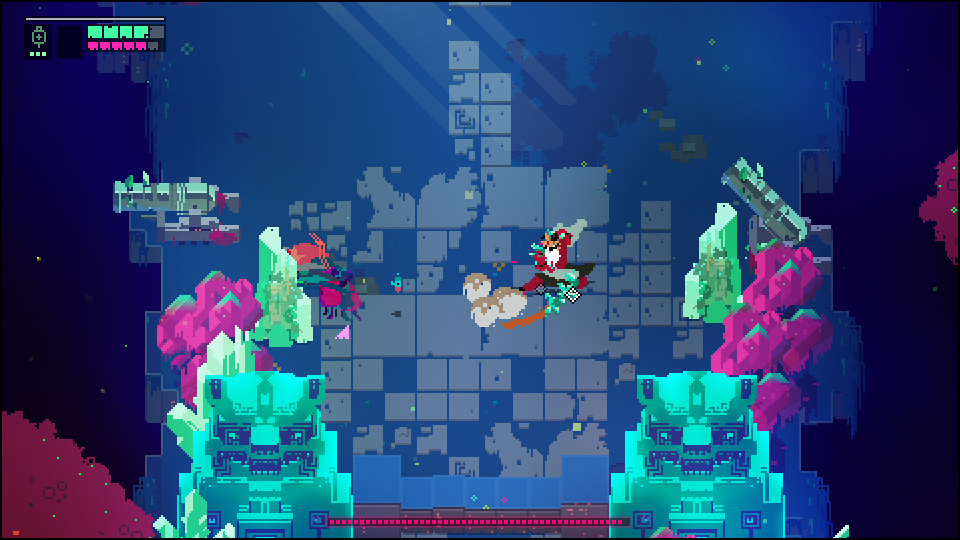hanged_man: (508, 216, 591, 330)
player: (268, 238, 340, 277)
